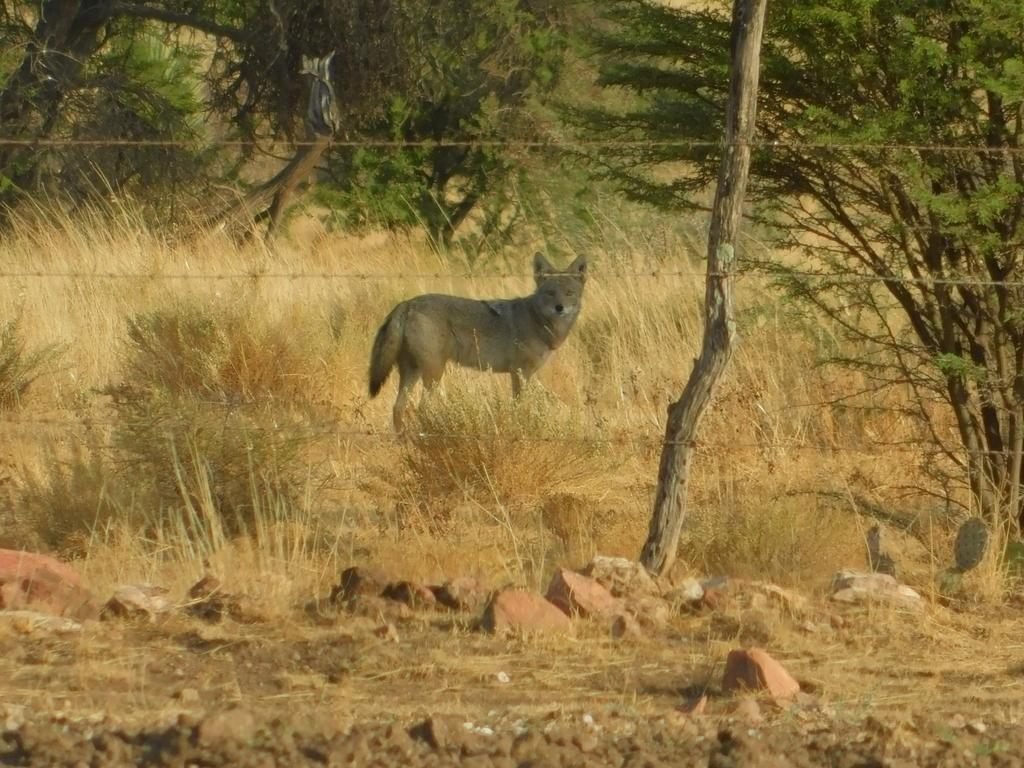Coyote: (360, 249, 594, 439)
